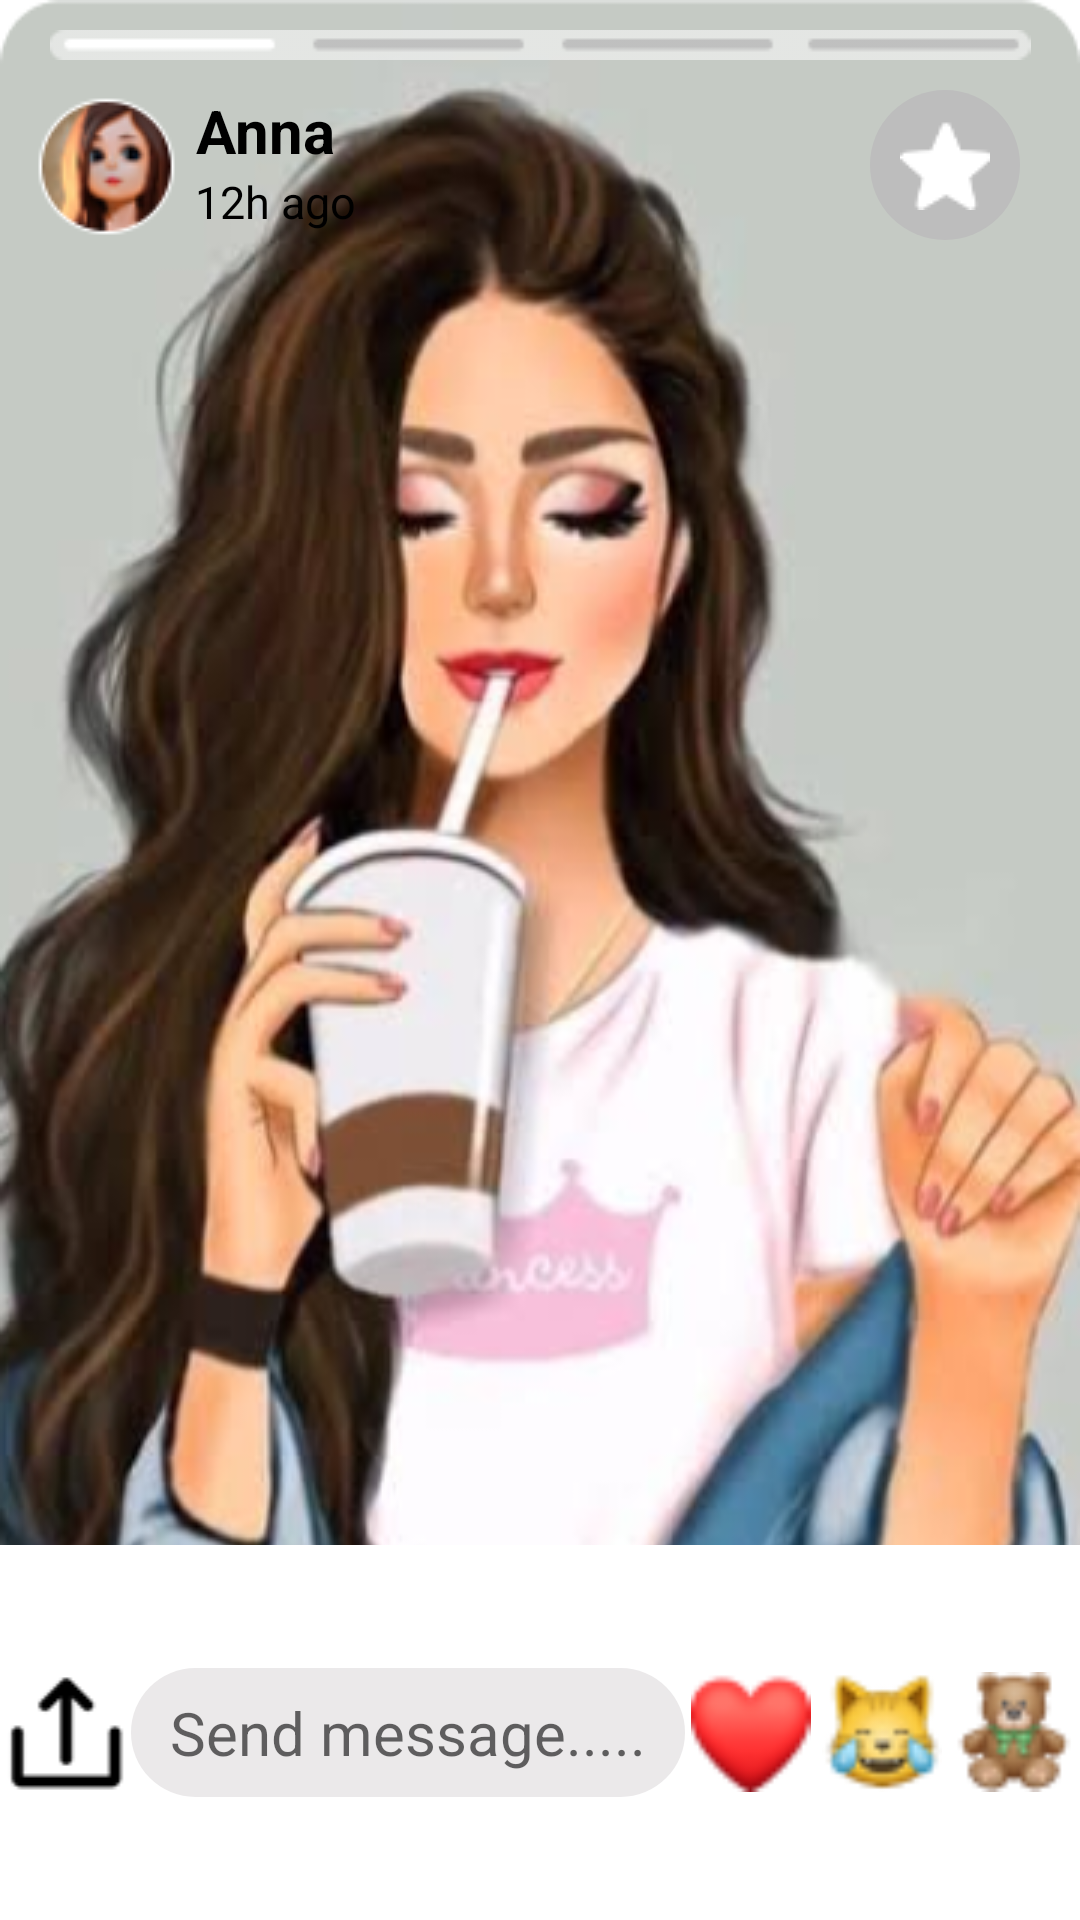

Locate icon controls on the screen. Image size 1080*1920, boxes as (x1, y1, x2, y2).
heart: (691, 1676, 811, 1792)
profile girls activity: (39, 99, 174, 234)
smile: (828, 1675, 937, 1789)
star: (900, 123, 990, 210)
teddy bear: (959, 1672, 1068, 1792)
upload: (10, 1677, 123, 1790)
